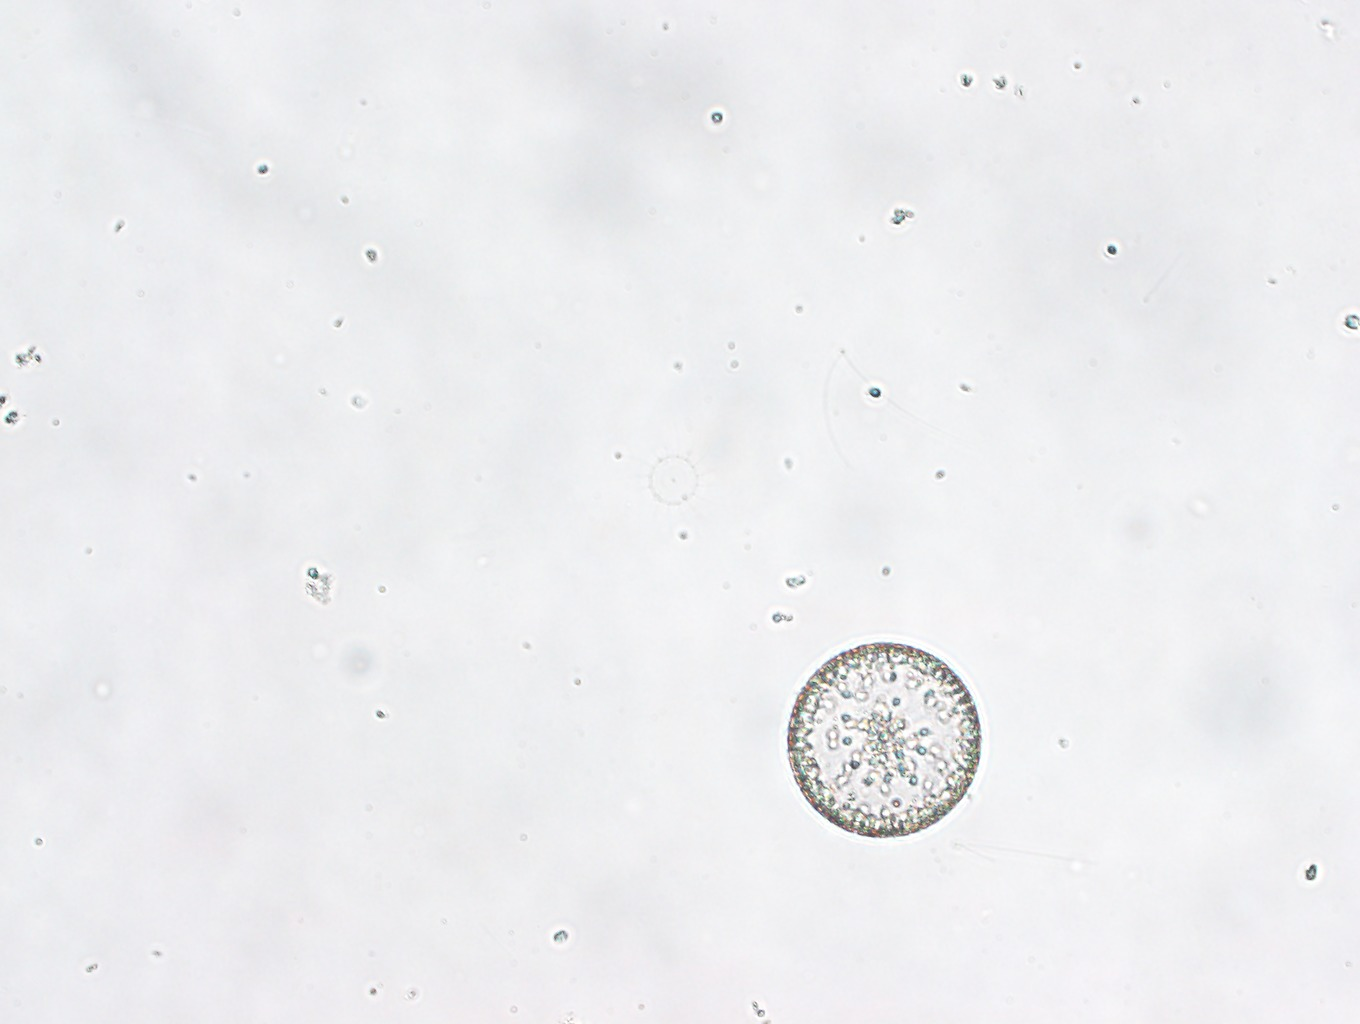coscinodiscus: (785, 642, 982, 839)
